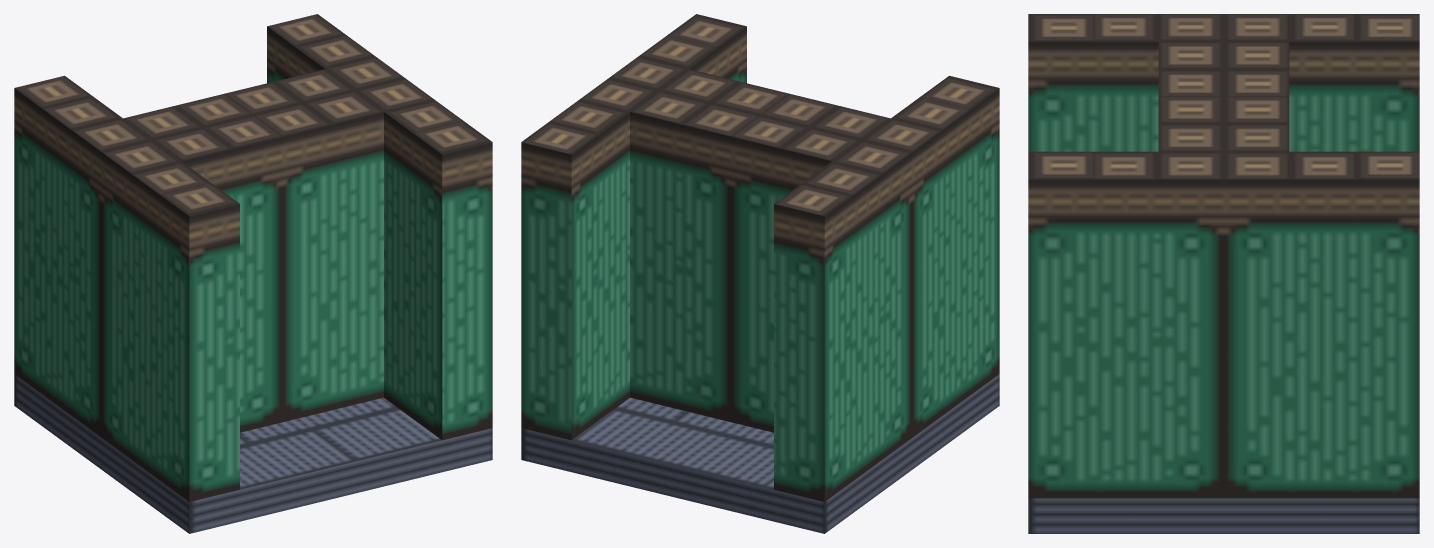
The model's file is 2_wall_midwall.FBX.
The picture shows the model from 3 angles, left to right: view 1: azimuth 30°, elevation 25°; view 2: azimuth 150°, elevation 25°; view 3: azimuth 270°, elevation 25°; orthographic projection. The views are drawn at different scales.
Parts seen in each view (by area): view 1: Object000_Element086; view 2: Object000_Element086; view 3: Object000_Element086.
Part boxes in pixels (x1,y1,x2,y2): Object000_Element086: [14, 14, 492, 533]; Object000_Element086: [521, 14, 999, 533]; Object000_Element086: [1028, 14, 1419, 533].
Bounding box in the file's own units: 100 × 100 × 100.
